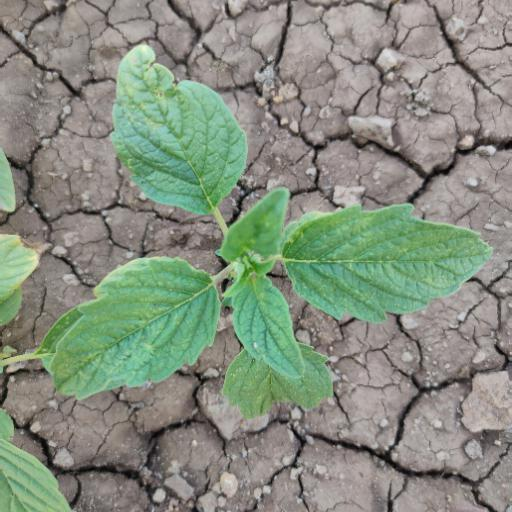crop: (43, 38, 496, 447)
